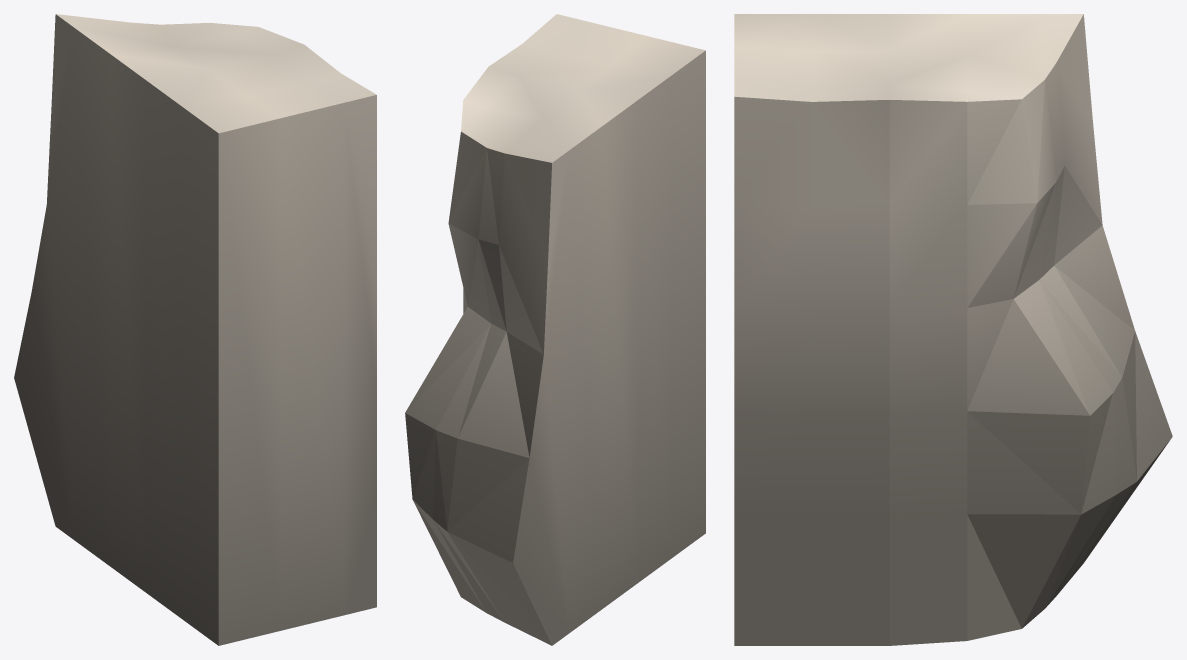
File: SM_VKI_Rock_Cave_COOO_WallS.fbx
3 views of the same model, side by side, from view 1: azimuth 30°, elevation 25°; view 2: azimuth 150°, elevation 25°; view 3: azimuth 270°, elevation 25° (orthographic). The views are drawn at different scales.
Visible parts, largest first — view 1: SM_VKI_Rock_Cave_COOO_WallS.001; view 2: SM_VKI_Rock_Cave_COOO_WallS.001; view 3: SM_VKI_Rock_Cave_COOO_WallS.001.
Boxes of the visible parts, x1,y1,x2,y2 form: SM_VKI_Rock_Cave_COOO_WallS.001: [14, 14, 376, 645]; SM_VKI_Rock_Cave_COOO_WallS.001: [405, 14, 705, 645]; SM_VKI_Rock_Cave_COOO_WallS.001: [734, 14, 1172, 645].
Size of the model in its own units: 0.42 by 1.3 by 0.9409.
